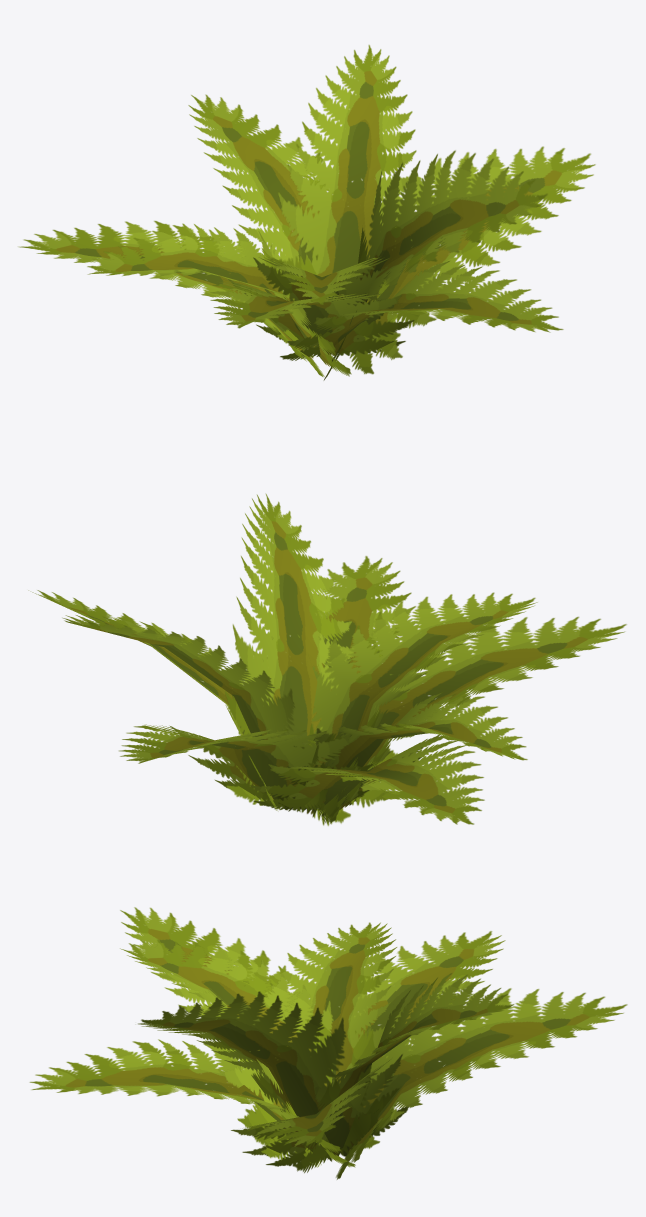
Rendered from Lady All_preview_3DS_simplified.glb.
3 views of the same model, one above another, from view 1: azimuth 30°, elevation 25°; view 2: azimuth 150°, elevation 25°; view 3: azimuth 270°, elevation 25° (orthographic). The views are drawn at different scales.
Visible parts, largest first — view 1: Marine Park Empire model; view 2: Marine Park Empire model; view 3: Marine Park Empire model.
Boxes of the visible parts, left/top/right/bottom form: Marine Park Empire model: left=18, top=45, right=595, bottom=380; Marine Park Empire model: left=28, top=493, right=626, bottom=825; Marine Park Empire model: left=29, top=907, right=627, bottom=1179.
Size of the model in its own units: 70.19 by 37.5 by 69.29.
Materials: 1 (1 with a texture image).
